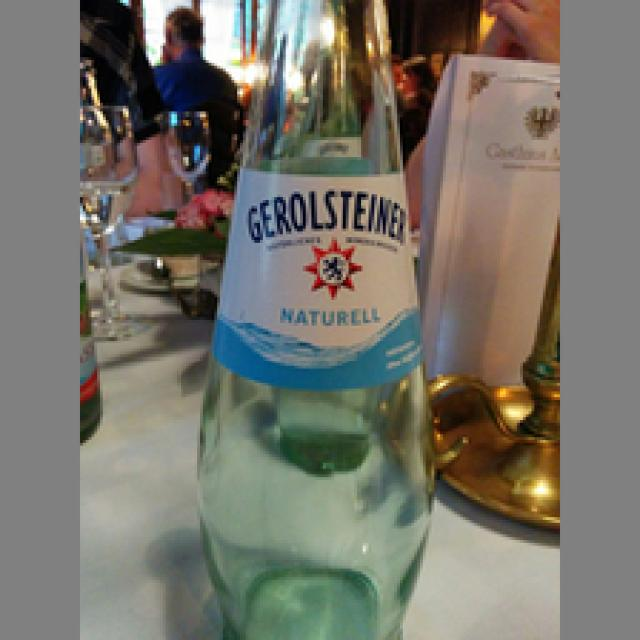groceries: (192, 0, 432, 637)
